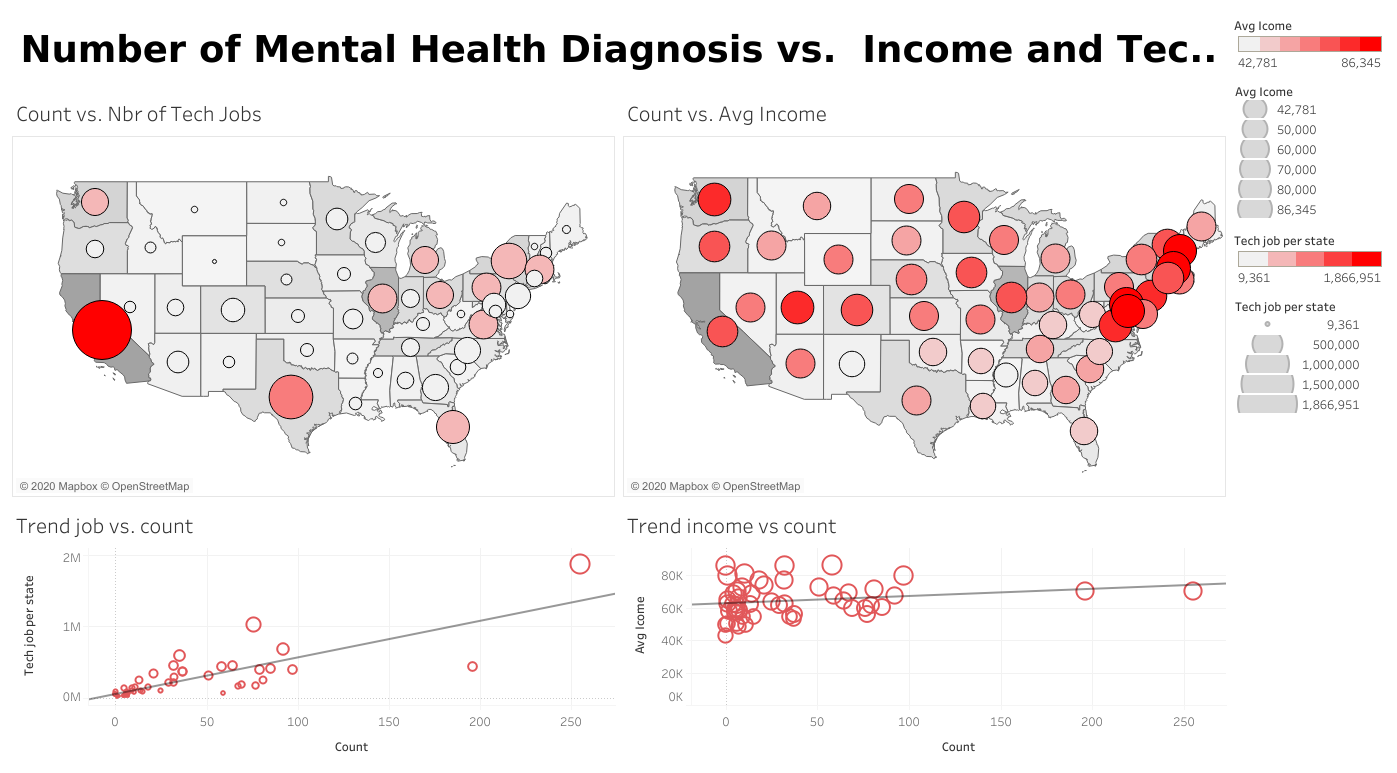

The dashboard page shown, as its layout file describes it:
{"tool":"tableau","page":{"name":"Mental Health Diagnosis vs several variables","canvas":[1000,1000],"units":"permille","ordinal":0},"visuals":[{"type":"worksheet","box":[0,0,1000,1000]},{"type":"worksheet","param":"horz","box":[4.7,8.8,990.6,982.3]},{"type":"worksheet","box":[4.7,8.8,897,982.3]},{"type":"worksheet","box":[4.7,8.8,897,105.1]},{"type":"worksheet","param":"vert","box":[901.7,8.8,93.6,982.3]},{"type":"worksheet","title":"Count vs. Avg Income","mark":"Multipolygon","param":"[federated.1rz9pod0oh0c7p1el70vt1kdyc52].[sum:Avg Icome:qk]","box":[901.7,8.8,93.6,71.9]},{"type":"worksheet","title":"Count vs. Avg Income","mark":"Multipolygon","param":"[federated.1rz9pod0oh0c7p1el70vt1kdyc52].[sum:Avg Icome:qk]","box":[901.7,80.8,93.6,161.5]},{"type":"worksheet","title":"Count vs. Nbr of Tech Jobs","mark":"Multipolygon","box":[4.7,113.9,448.5,534.3]},{"type":"worksheet","title":"Count vs. Avg Income","mark":"Multipolygon","box":[453.2,113.9,448.5,534.3]},{"type":"worksheet","title":"Count vs. Nbr of Tech Jobs","mark":"Multipolygon","param":"[federated.1rz9pod0oh0c7p1el70vt1kdyc52].[sum:Tech job per state:qk]","box":[901.7,242.2,93.6,71.9]},{"type":"worksheet","title":"Count vs. Nbr of Tech Jobs","mark":"Multipolygon","param":"[federated.1rz9pod0oh0c7p1el70vt1kdyc52].[sum:Tech job per state:qk]","box":[901.7,314.2,93.6,139.4]},{"type":"worksheet","title":"Trend job vs. count","mark":"Shape","rows":["Tech job per state"],"cols":["count"],"box":[4.7,648.2,448.5,342.9]},{"type":"worksheet","title":"Trend income vs count","mark":"Automatic","rows":["Avg Icome"],"cols":["count"],"box":[453.2,648.2,448.5,342.9]}]}

Visuals, with their boxes on the dashboard's canvas, which has no fixed pixel size, in thousandths of its width and height (x1, y1, x2, y2). These are canvas units, not pixel positions in the 1397x773 screenshot, which may show the page scaled, cropped or inside an application window:
worksheet: <box>0,0,1000,1000</box>
worksheet: <box>5,9,995,991</box>
worksheet: <box>5,9,902,991</box>
worksheet: <box>5,9,902,114</box>
worksheet: <box>902,9,995,991</box>
"Count vs. Avg Income" worksheet (Multipolygon marks): <box>902,9,995,81</box>
"Count vs. Avg Income" worksheet (Multipolygon marks): <box>902,81,995,242</box>
"Count vs. Nbr of Tech Jobs" worksheet (Multipolygon marks): <box>5,114,453,648</box>
"Count vs. Avg Income" worksheet (Multipolygon marks): <box>453,114,902,648</box>
"Count vs. Nbr of Tech Jobs" worksheet (Multipolygon marks): <box>902,242,995,314</box>
"Count vs. Nbr of Tech Jobs" worksheet (Multipolygon marks): <box>902,314,995,454</box>
"Trend job vs. count" worksheet (Shape marks): <box>5,648,453,991</box>
"Trend income vs count" worksheet: <box>453,648,902,991</box>
